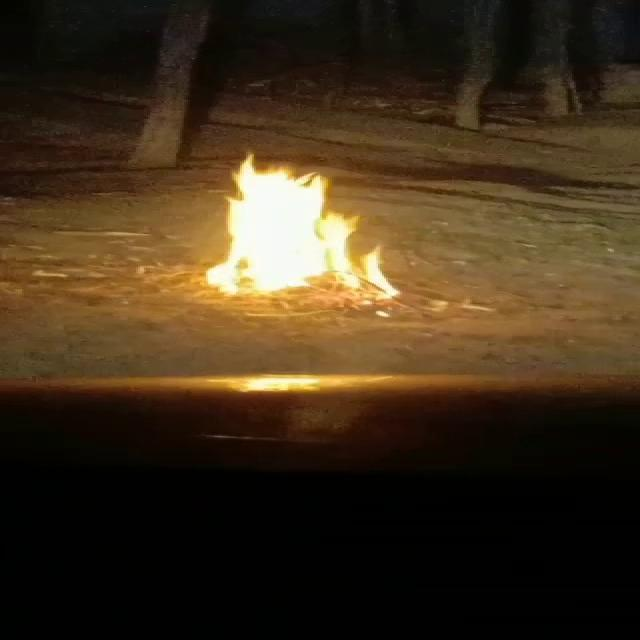Fire: (206, 158, 396, 299)
